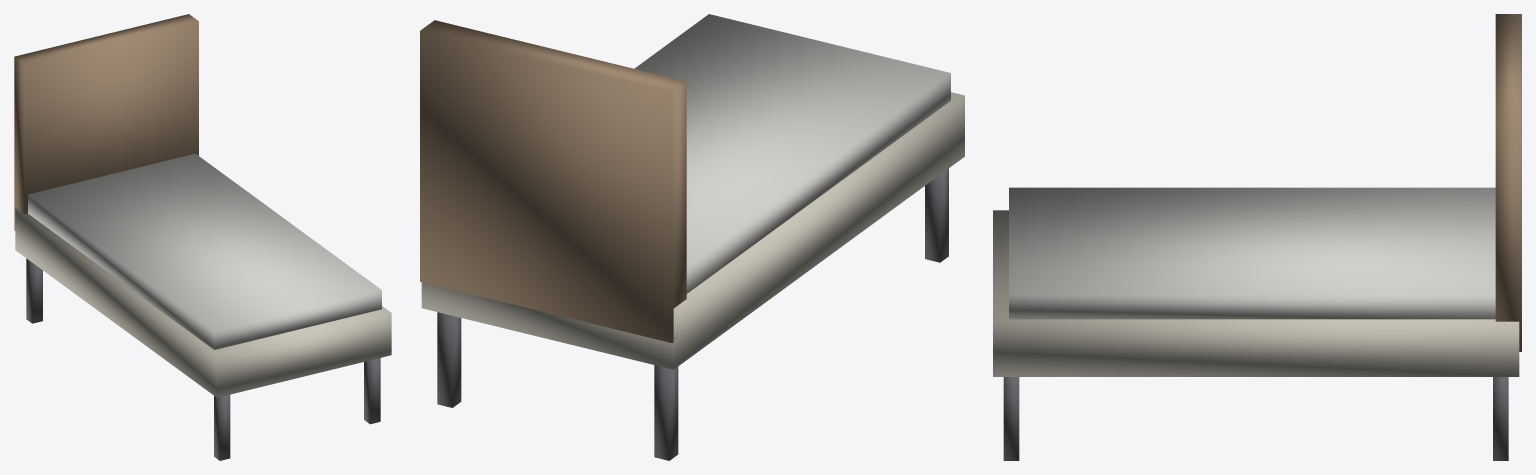
Rendered from single_bed__tall.glb.
The picture shows the model from 3 angles, left to right: view 1: azimuth 30°, elevation 25°; view 2: azimuth 150°, elevation 25°; view 3: azimuth 270°, elevation 25°; orthographic projection. The views are drawn at different scales.
Visible parts, largest first — view 1: world; view 2: world; view 3: world.
Part boxes in pixels (<box>): world: <box>14,14,391,460</box>; world: <box>420,14,964,460</box>; world: <box>993,14,1521,460</box>.
Size of the model in its own units: 1 by 1.43 by 2.01.
